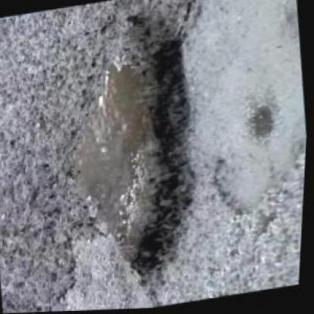Hueco: (46, 4, 223, 302), (244, 100, 287, 146)
